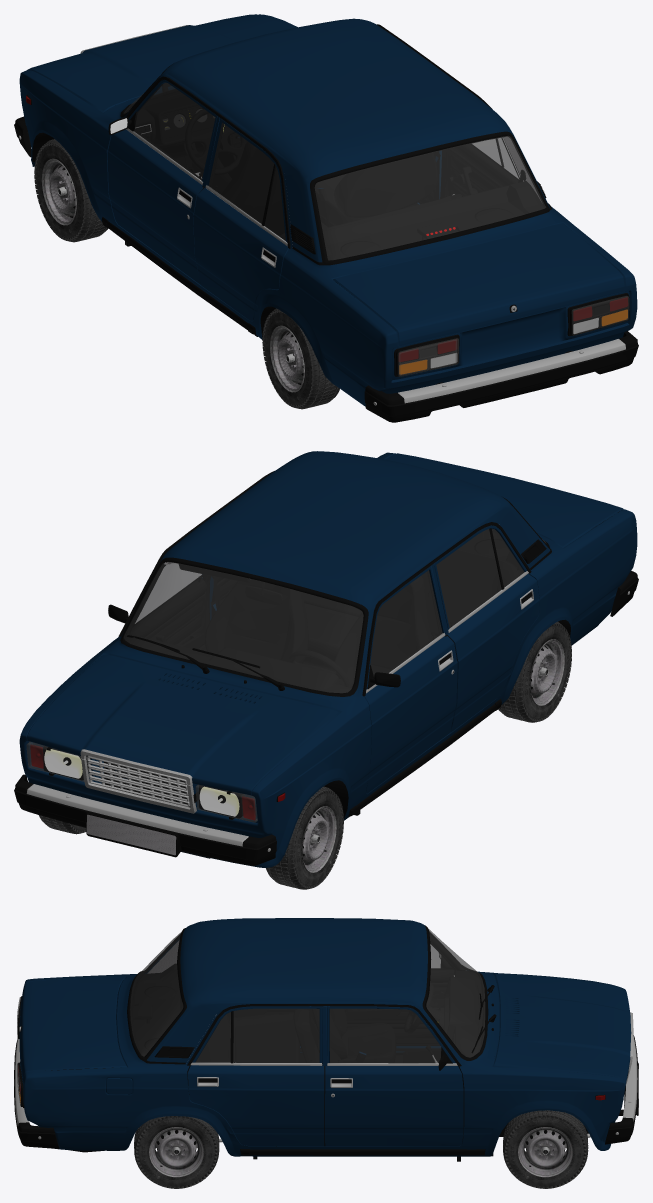
The model's file is lada-2107.glb.
The picture shows the model from 3 angles, top to bottom: view 1: azimuth 30°, elevation 25°; view 2: azimuth 150°, elevation 25°; view 3: azimuth 270°, elevation 25°; orthographic projection. The views are drawn at different scales.
Parts seen in each view (by area): view 1: base_BaseColorCuzov_0, base_plastik_0, bag_BaseColorCuzov_0, WinZ_steclo_0, kapot_BaseColorCuzov_0, DverP001_BaseColorCuzov_0, DverP002_BaseColorCuzov_0, ZBamp_plastik_0, DverP002_steclo_0, Wheel L Z_Wheel_0, DverP001_steclo_0, Wheel L P_Wheel_0 (+6 smaller); view 2: base_BaseColorCuzov_0, base_plastik_0, kapot_BaseColorCuzov_0, WinP_steclo_0, DverP001_BaseColorCuzov_0, DverP002_BaseColorCuzov_0, bag_BaseColorCuzov_0, Wheel L P_Wheel_0, DverP002_steclo_0, DverP001_steclo_0, Wheel L Z_Wheel_0, PBamp_plastik_0 (+11 smaller); view 3: base_BaseColorCuzov_0, DverP_BaseColorCuzov_0 (×2), base_plastik_0, kapot_BaseColorCuzov_0, DverP_steclo_0 (×2), bag_BaseColorCuzov_0, Wheel P P_Wheel_0, Wheel P Z_Wheel_0, WinP_steclo_0, WinZ_steclo_0, DverP001_plastik_0, WinZ_plastik_0 (+9 smaller).
Part boxes in pixels (<box>): base_BaseColorCuzov_0: <box>19,14,637,406</box>; base_plastik_0: <box>26,24,629,384</box>; bag_BaseColorCuzov_0: <box>333,223,625,346</box>; WinZ_steclo_0: <box>315,136,545,260</box>; kapot_BaseColorCuzov_0: <box>27,14,292,112</box>; DverP001_BaseColorCuzov_0: <box>107,79,217,284</box>; DverP002_BaseColorCuzov_0: <box>193,118,288,320</box>; ZBamp_plastik_0: <box>364,331,638,422</box>; DverP002_steclo_0: <box>209,123,285,240</box>; Wheel L Z_Wheel_0: <box>262,308,339,409</box>; DverP001_steclo_0: <box>134,83,215,180</box>; Wheel L P_Wheel_0: <box>34,139,108,242</box>; base_BaseColorCuzov_0: <box>19,451,637,867</box>; base_plastik_0: <box>40,471,619,858</box>; kapot_BaseColorCuzov_0: <box>27,654,340,795</box>; WinP_steclo_0: <box>124,562,363,692</box>; DverP001_BaseColorCuzov_0: <box>364,566,457,793</box>; DverP002_BaseColorCuzov_0: <box>434,525,539,732</box>; bag_BaseColorCuzov_0: <box>385,453,623,547</box>; Wheel L P_Wheel_0: <box>266,786,343,889</box>; DverP002_steclo_0: <box>436,529,523,627</box>; DverP001_steclo_0: <box>370,570,442,675</box>; Wheel L Z_Wheel_0: <box>498,621,571,722</box>; PBamp_plastik_0: <box>14,774,276,865</box>; base_BaseColorCuzov_0: <box>19,918,626,1156</box>; DverP_BaseColorCuzov_0 (×2): <box>188,1006,463,1146</box>; base_plastik_0: <box>18,934,628,1161</box>; kapot_BaseColorCuzov_0: <box>493,973,631,1083</box>; DverP_steclo_0 (×2): <box>196,1009,440,1062</box>; bag_BaseColorCuzov_0: <box>19,976,126,1081</box>; Wheel P P_Wheel_0: <box>503,1110,588,1188</box>; Wheel P Z_Wheel_0: <box>134,1116,219,1188</box>; WinP_steclo_0: <box>426,929,484,1057</box>; WinZ_steclo_0: <box>130,931,182,1056</box>; DverP001_plastik_0: <box>344,953,454,1045</box>; WinZ_plastik_0: <box>127,928,186,1061</box>.
Bounding box in the file's own units: 1.99 × 1.54 × 4.56.
15 materials, 2 textured.
